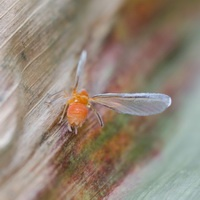insect: (62, 50, 171, 133)
